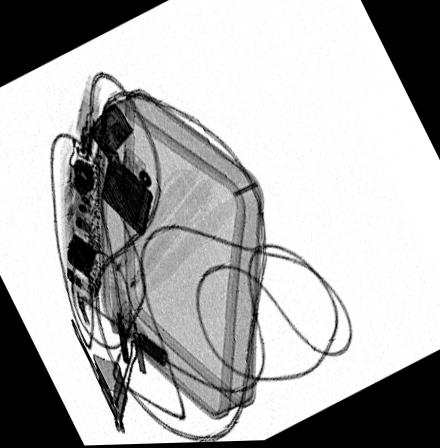Lighter: (87, 103, 153, 237)
